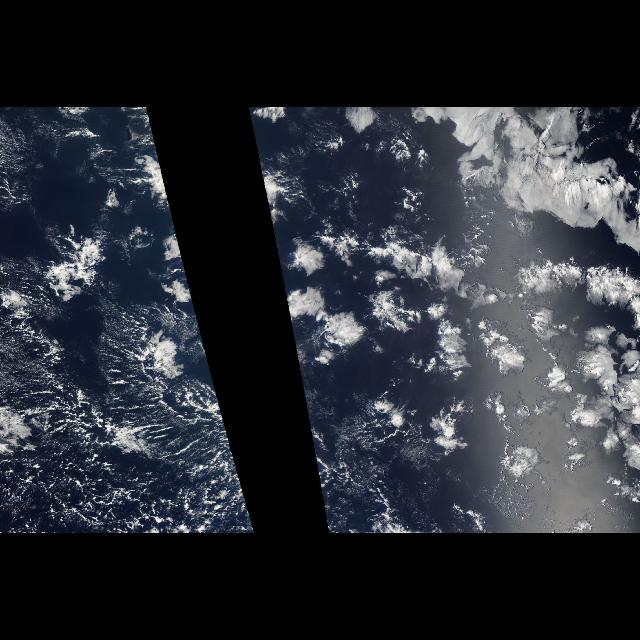Flower: (248, 108, 640, 504), (27, 108, 241, 478)
Gravel: (2, 408, 242, 532)
